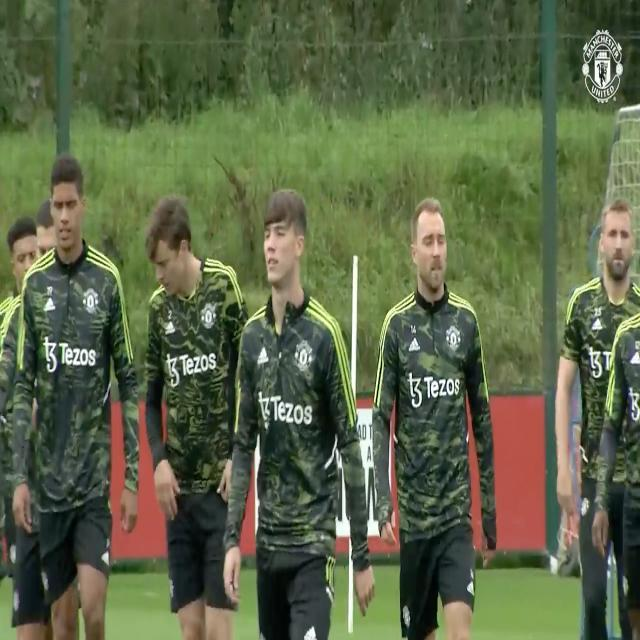Adidas: (258, 344, 270, 366), (304, 622, 318, 640), (43, 297, 56, 314), (164, 319, 176, 336), (409, 338, 421, 354), (593, 316, 604, 331)
